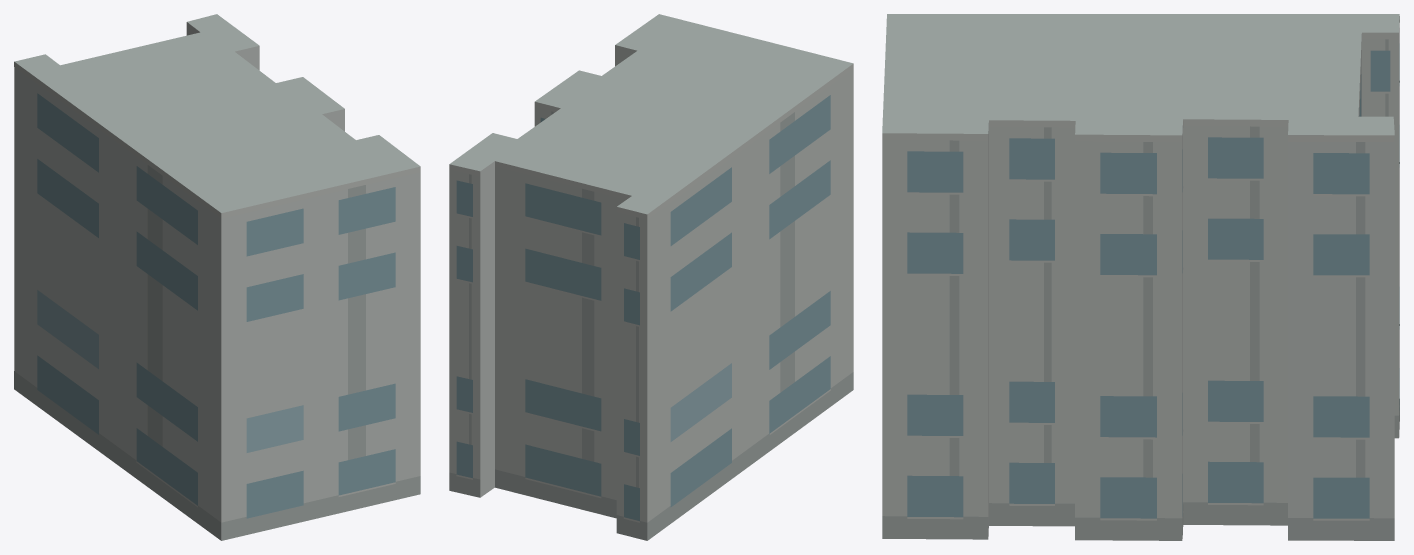
File: survey-upis-32732572.glb
3 renders of one model, left to right at view 1: azimuth 30°, elevation 25°; view 2: azimuth 150°, elevation 25°; view 3: azimuth 270°, elevation 25°, orthographic. The views are drawn at different scales.
Parts seen in each view (by area): view 1: survey-upis-32732572.tmp; view 2: survey-upis-32732572.tmp; view 3: survey-upis-32732572.tmp.
Part boxes in pixels (x1,y1,x2,y2): survey-upis-32732572.tmp: [14, 14, 420, 540]; survey-upis-32732572.tmp: [449, 14, 853, 540]; survey-upis-32732572.tmp: [882, 14, 1399, 540].
Bounding box in the file's own units: 9.39 × 14.6 × 16.9.
